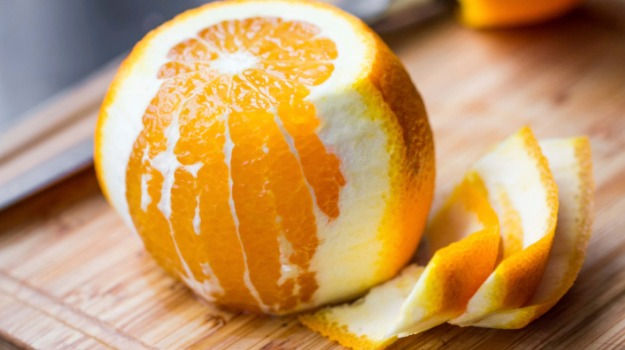orange: (82, 2, 431, 315)
